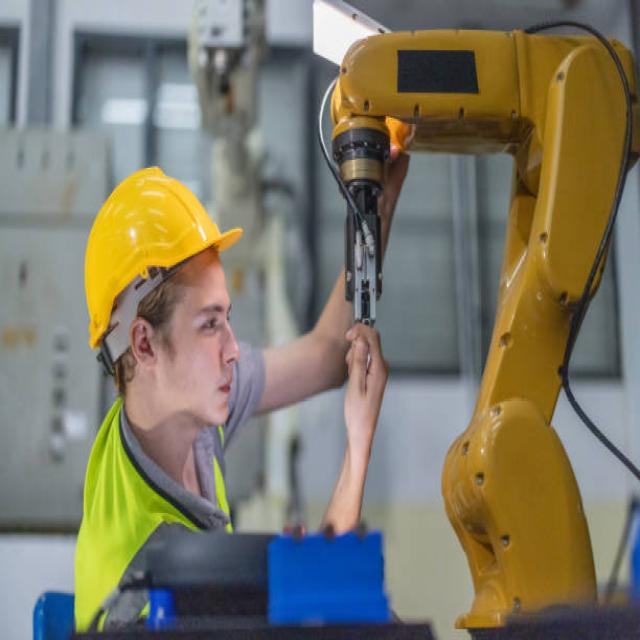Robotic-arm: (316, 19, 638, 640)
